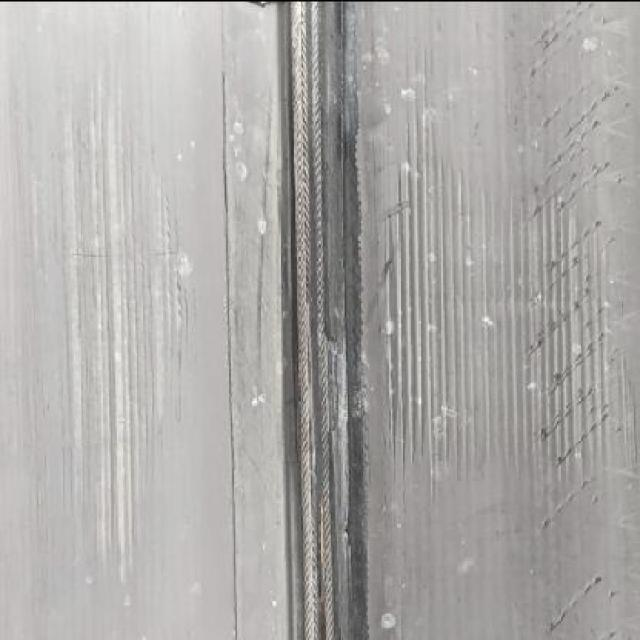Tear: (270, 0, 380, 640)
Wear: (387, 56, 640, 500), (16, 62, 199, 593)
